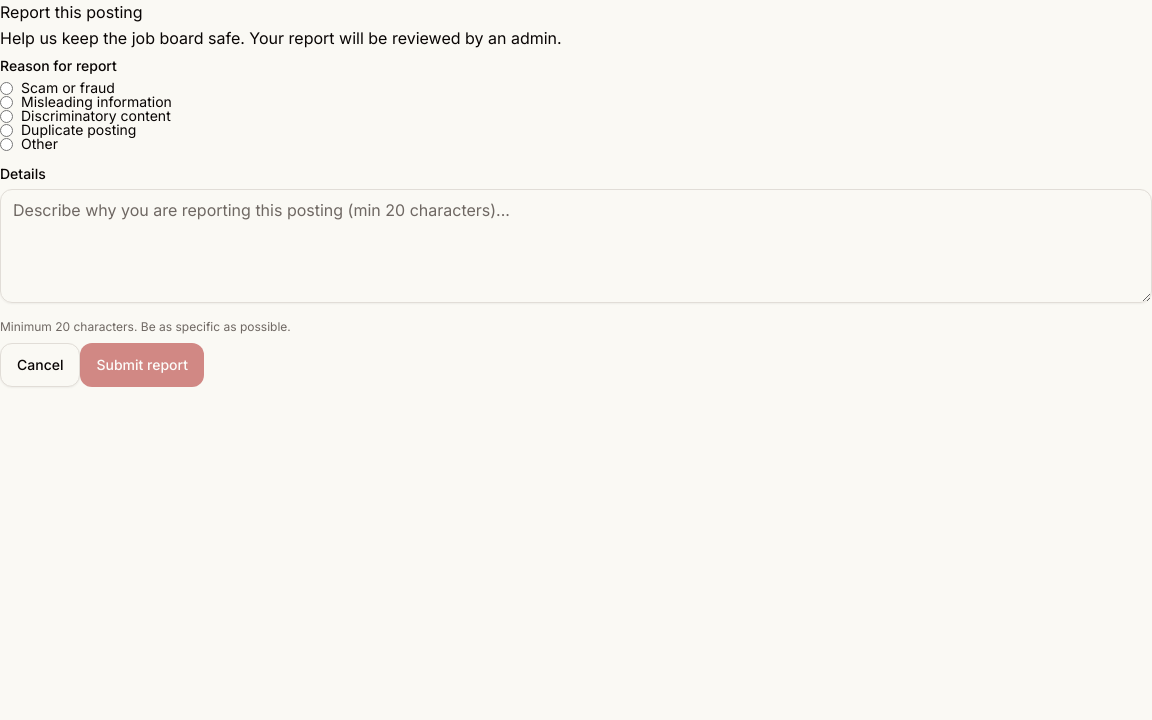
ReportPostingModal › proceed button is enabled when category and long enough description are set
Click the radio button with test id "report-category-scam_fraud".
click(6, 88)  # box [0,82,13,95]
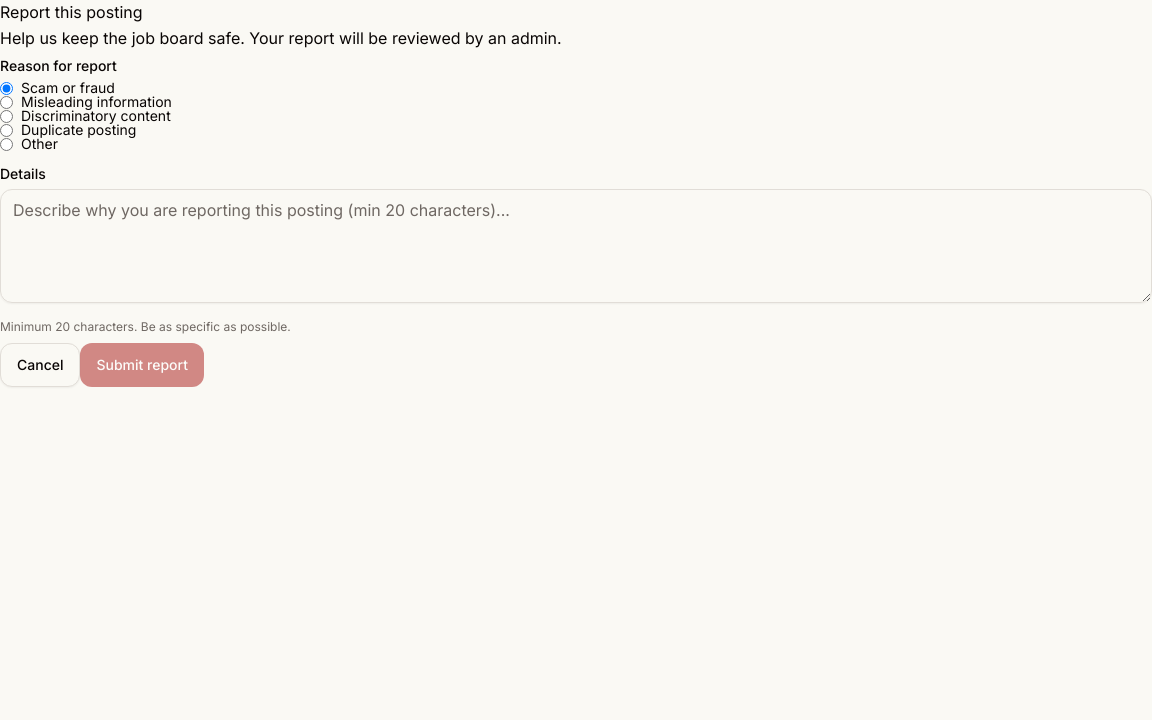
Replace the text in the text box with test id "report-description-textarea" with "This posting appears to be a scam with unrealistic salary claims." at {"x": 576, "y": 246}, box [0,189,1151,303]
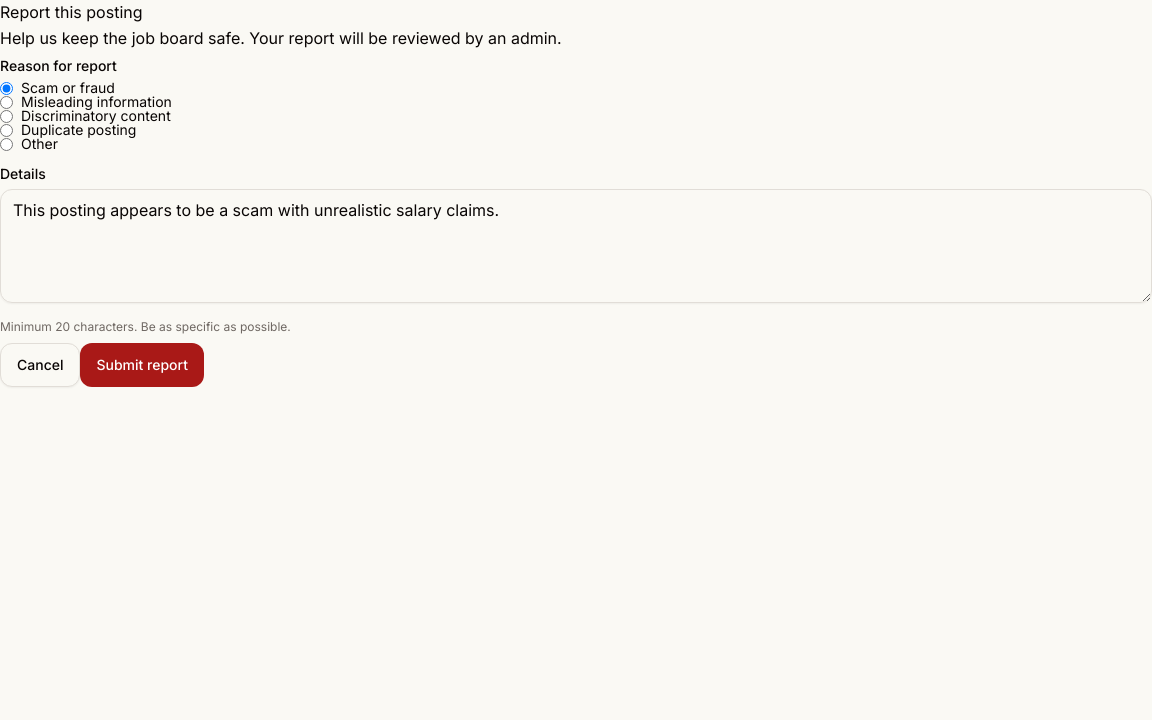
Result: the button with test id "report-proceed-button" is enabled at [80,343,204,387]
